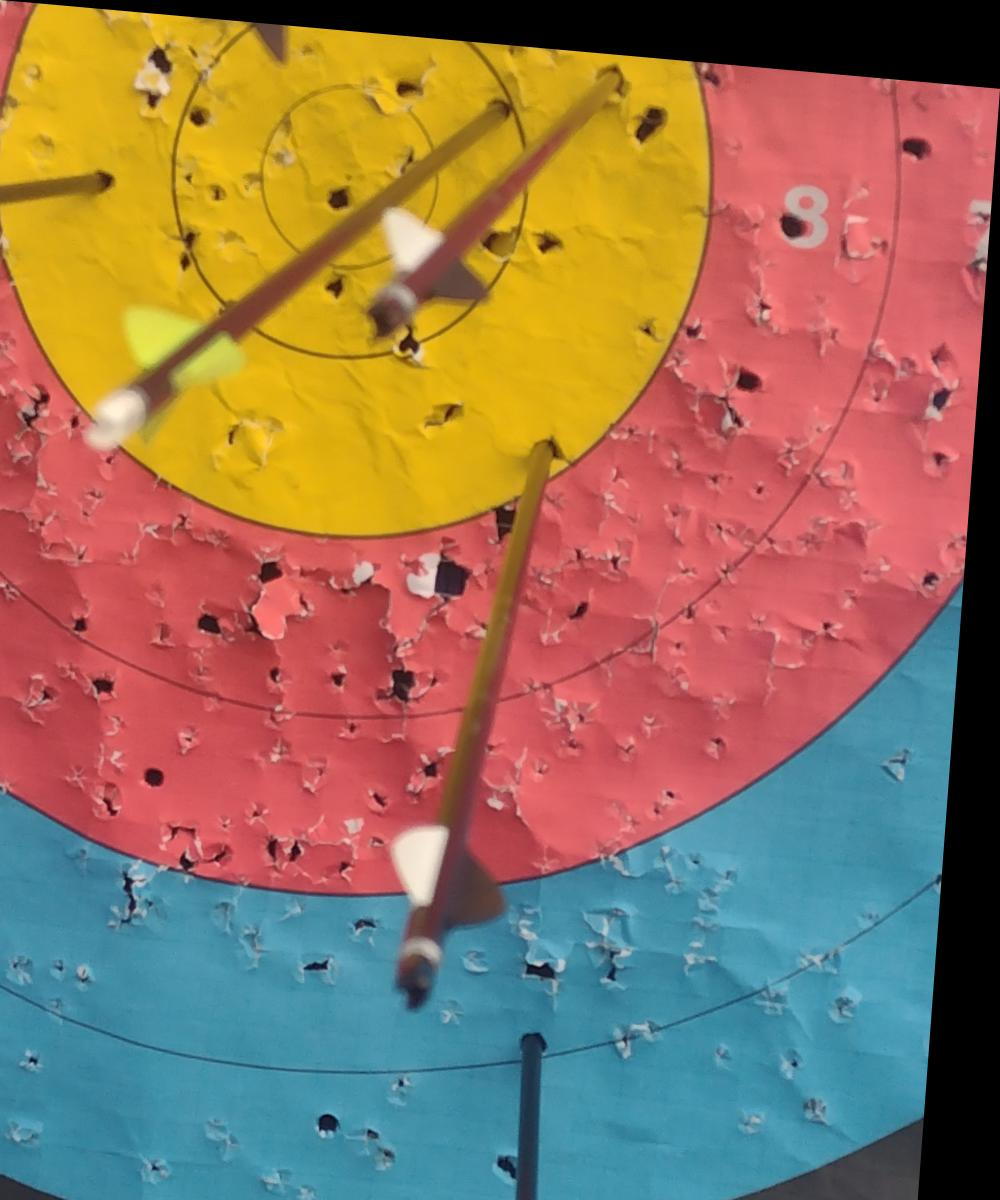10-Ring: (165, 13, 540, 365)
9-Ring: (0, 1, 720, 555)
Arrow: (45, 69, 543, 458), (324, 57, 681, 352), (393, 422, 561, 1009)
